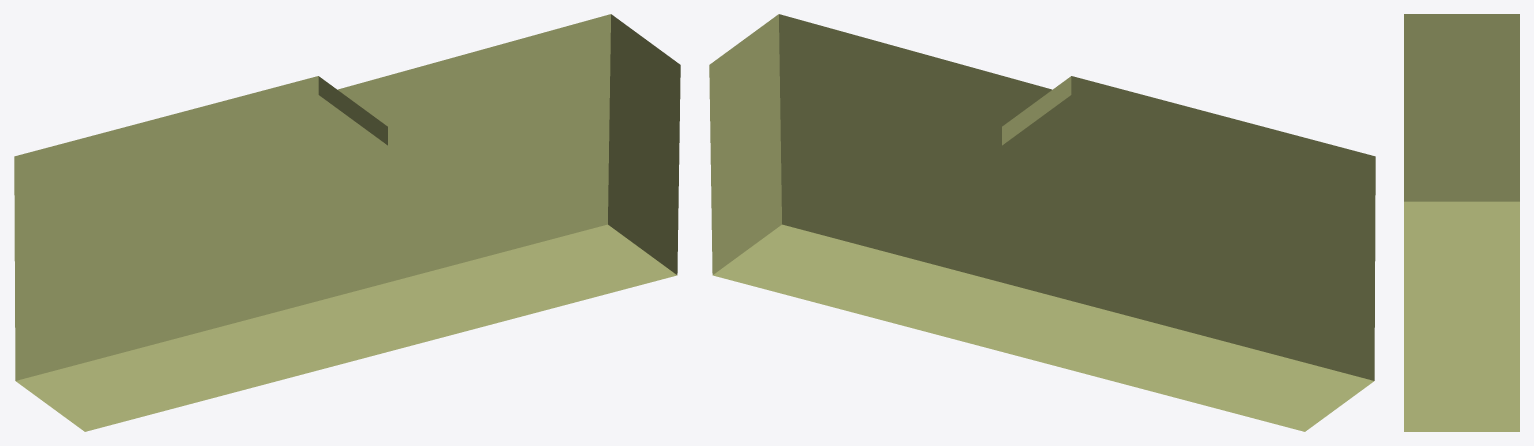
The picture shows the model from 3 angles, left to right: view 1: azimuth 30°, elevation 25°; view 2: azimuth 150°, elevation 25°; view 3: azimuth 270°, elevation 25°; orthographic projection. The views are drawn at different scales.
Parts seen in each view (by area): view 1: 0_0_2_0_1_0_1_2_2; view 2: 0_0_2_0_1_0_1_2_2; view 3: 0_0_2_0_1_0_1_2_2.
Part boxes in pixels (x1,y1,x2,y2): 0_0_2_0_1_0_1_2_2: (14,14,680,431); 0_0_2_0_1_0_1_2_2: (709,14,1375,431); 0_0_2_0_1_0_1_2_2: (1404,14,1519,431).
Bounding box in the file's own units: 29.72 × 11 × 6.
